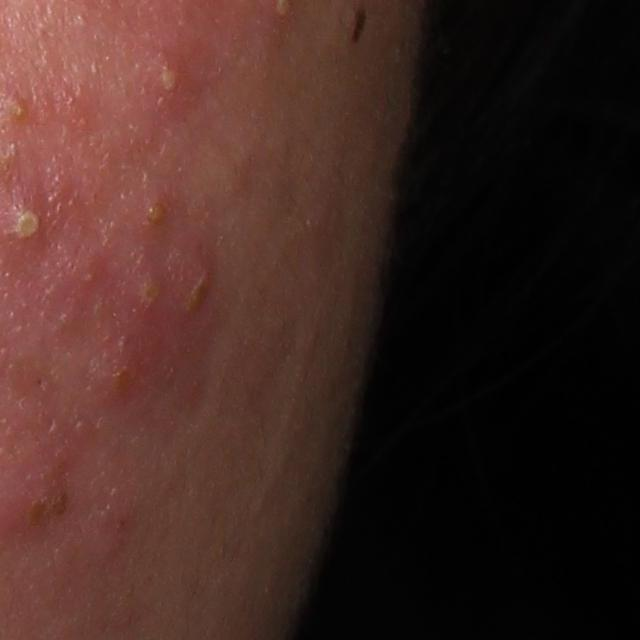nevus: (349, 5, 369, 47)
pustule: (125, 42, 191, 113), (2, 193, 57, 254), (123, 263, 171, 317), (129, 193, 174, 240)
